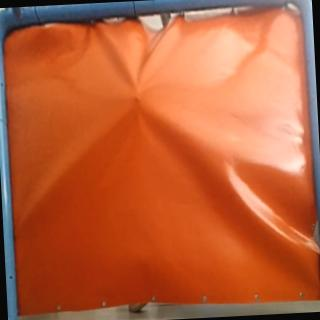Hit-hRxx: (126, 90, 148, 106)
